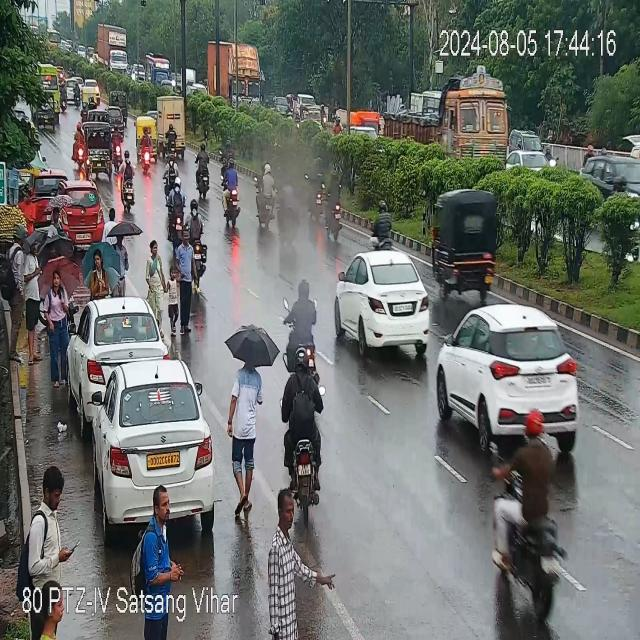2-wheelers: (493, 408, 565, 634), (282, 353, 322, 482), (284, 276, 317, 342), (278, 179, 303, 250), (189, 197, 208, 286), (220, 160, 242, 231), (366, 202, 397, 246), (256, 163, 274, 233), (327, 171, 343, 244), (168, 175, 184, 243), (310, 158, 325, 220), (121, 150, 134, 216), (198, 142, 210, 198), (141, 126, 152, 174), (164, 153, 178, 187), (76, 122, 84, 169), (166, 123, 177, 157), (222, 137, 233, 169), (114, 128, 120, 170), (60, 80, 67, 112), (73, 82, 81, 109)
auto: (431, 189, 498, 301), (84, 122, 114, 176), (135, 116, 156, 157), (36, 91, 54, 128), (110, 88, 127, 122), (82, 83, 97, 109)
bus: (145, 54, 169, 84)
car: (438, 304, 592, 450), (89, 367, 213, 530), (333, 248, 435, 349), (65, 306, 166, 404), (58, 186, 108, 243), (32, 168, 66, 212), (109, 105, 125, 132)
pedestrian: (146, 227, 193, 334), (271, 487, 303, 636), (230, 353, 259, 516), (33, 461, 69, 546), (142, 485, 175, 558), (50, 261, 66, 383), (10, 230, 23, 367), (27, 243, 42, 360), (89, 248, 106, 298), (115, 235, 127, 291), (105, 208, 118, 238), (24, 187, 34, 226), (49, 207, 60, 234)
truck: (375, 77, 517, 158), (207, 41, 259, 108), (581, 149, 637, 207), (158, 94, 187, 158), (98, 23, 127, 76)
